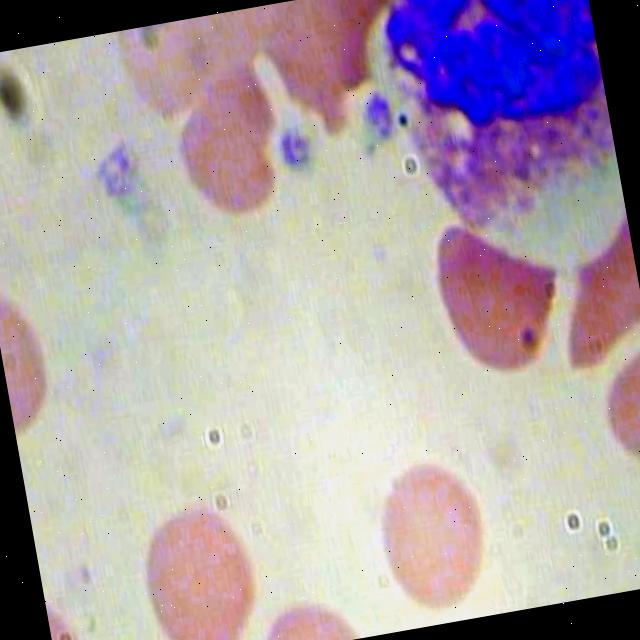Platelets: (352, 86, 398, 150), (276, 124, 318, 180)
RBC: (152, 52, 312, 244), (416, 200, 576, 390), (361, 450, 508, 632), (126, 489, 273, 640), (0, 266, 97, 446)
WBC: (364, 0, 625, 243)
